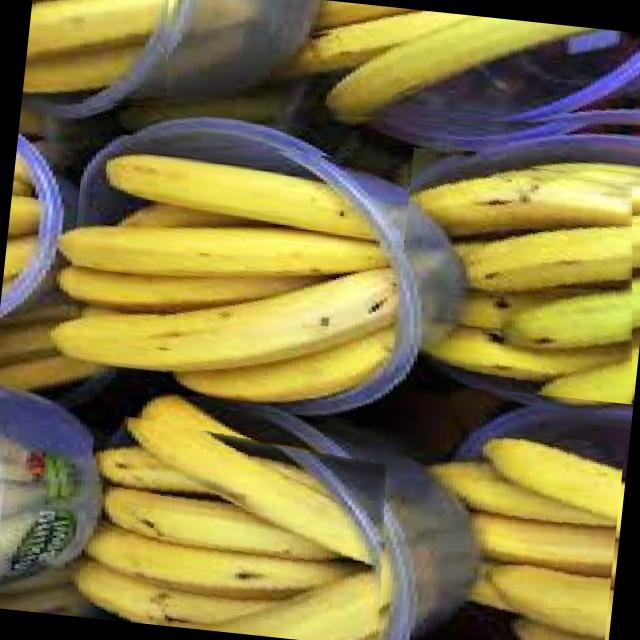Organic: (60, 129, 418, 405), (75, 408, 401, 640), (389, 145, 640, 403), (270, 0, 640, 153), (404, 423, 625, 640), (21, 0, 178, 111)
